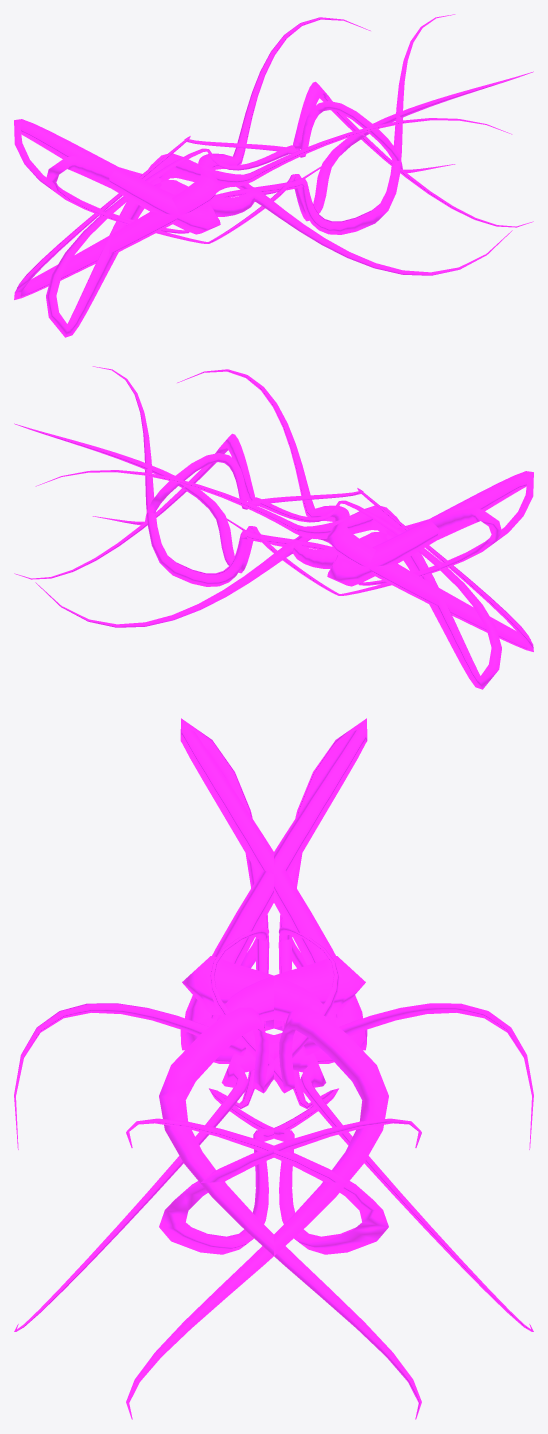
File: wormbody.fbx
3 renders of one model, top to bottom at view 1: azimuth 30°, elevation 25°; view 2: azimuth 150°, elevation 25°; view 3: azimuth 270°, elevation 25°, orthographic. The views are drawn at different scales.
Visible parts, largest first — view 1: worm.001; view 2: worm.001; view 3: worm.001.
Part boxes in pixels (x1,y1,x2,y2): worm.001: (14, 14, 533, 337); worm.001: (14, 366, 533, 689); worm.001: (14, 718, 533, 1419).
Size of the model in its own units: 1921 by 714 by 1031.
